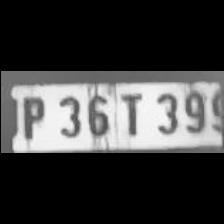3: (148, 88, 180, 136), (50, 91, 82, 138)
6: (82, 91, 113, 138)
9: (179, 88, 207, 134)
P: (16, 92, 48, 140)
T: (113, 90, 147, 136)
